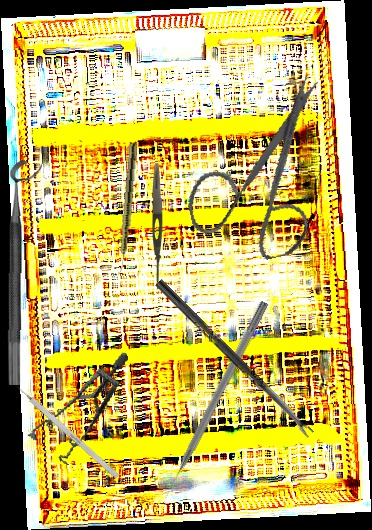Dressing Forceps: (150, 162, 165, 291)
Fixation Ring: (6, 160, 43, 386)
Handpiece: (116, 143, 138, 275)
Hook Surgical: (9, 378, 120, 480)
Iris Scissors: (165, 73, 355, 275)
Pusher: (158, 299, 270, 501)
Speculum: (13, 350, 153, 474)
Surgical Spoon: (154, 279, 314, 439)
